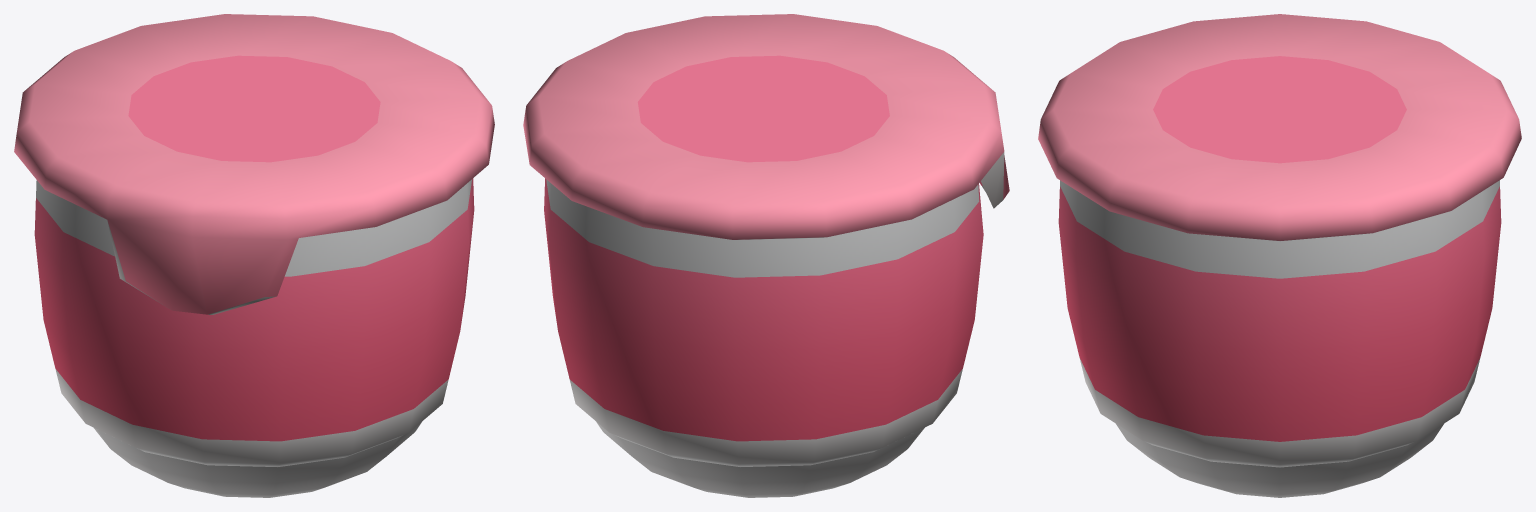
File: Sour_Cream_001.fbx
3 views of the same model, side by side, from view 1: azimuth 30°, elevation 25°; view 2: azimuth 150°, elevation 25°; view 3: azimuth 270°, elevation 25° (orthographic).
Visible parts, largest first — view 1: Sour_Cream_001; view 2: Sour_Cream_001; view 3: Sour_Cream_001.
Boxes of the visible parts, x1,y1,x2,y2 form: Sour_Cream_001: [14, 14, 494, 497]; Sour_Cream_001: [523, 14, 1009, 497]; Sour_Cream_001: [1038, 14, 1521, 497].
Size of the model in its own units: 18.46 by 18.46 by 14.32.
